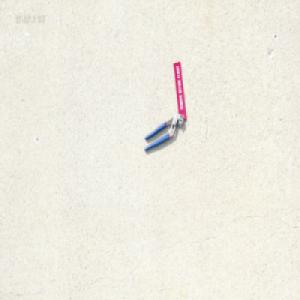Label: (173, 61, 187, 119)
Pliers: (143, 113, 184, 153)
